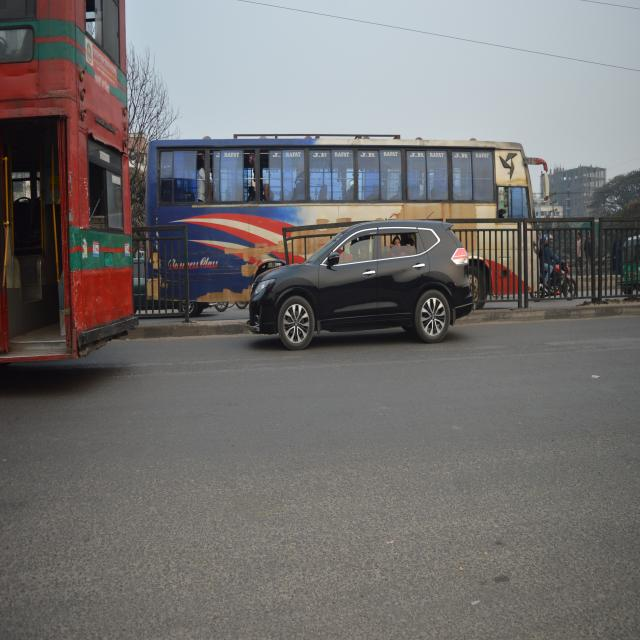bus: (0, 0, 137, 423), (142, 123, 558, 250)
car: (247, 204, 479, 359)
